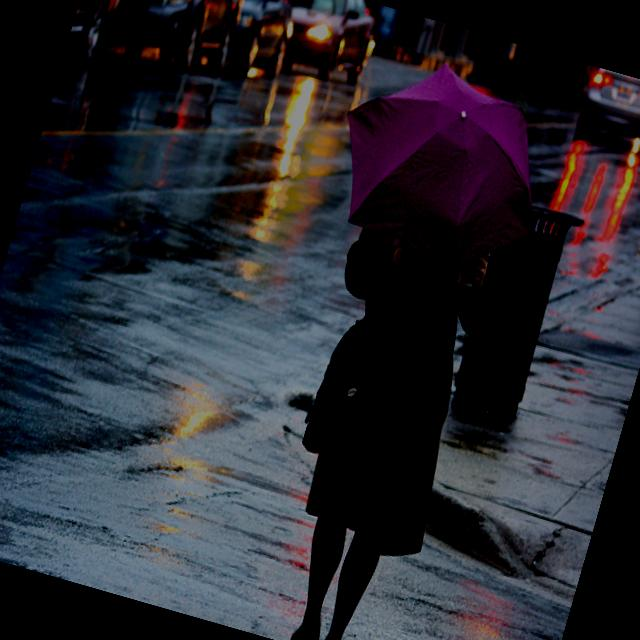Vehicle: (215, 0, 640, 192), (97, 0, 254, 88), (264, 0, 386, 94), (56, 0, 140, 92)
